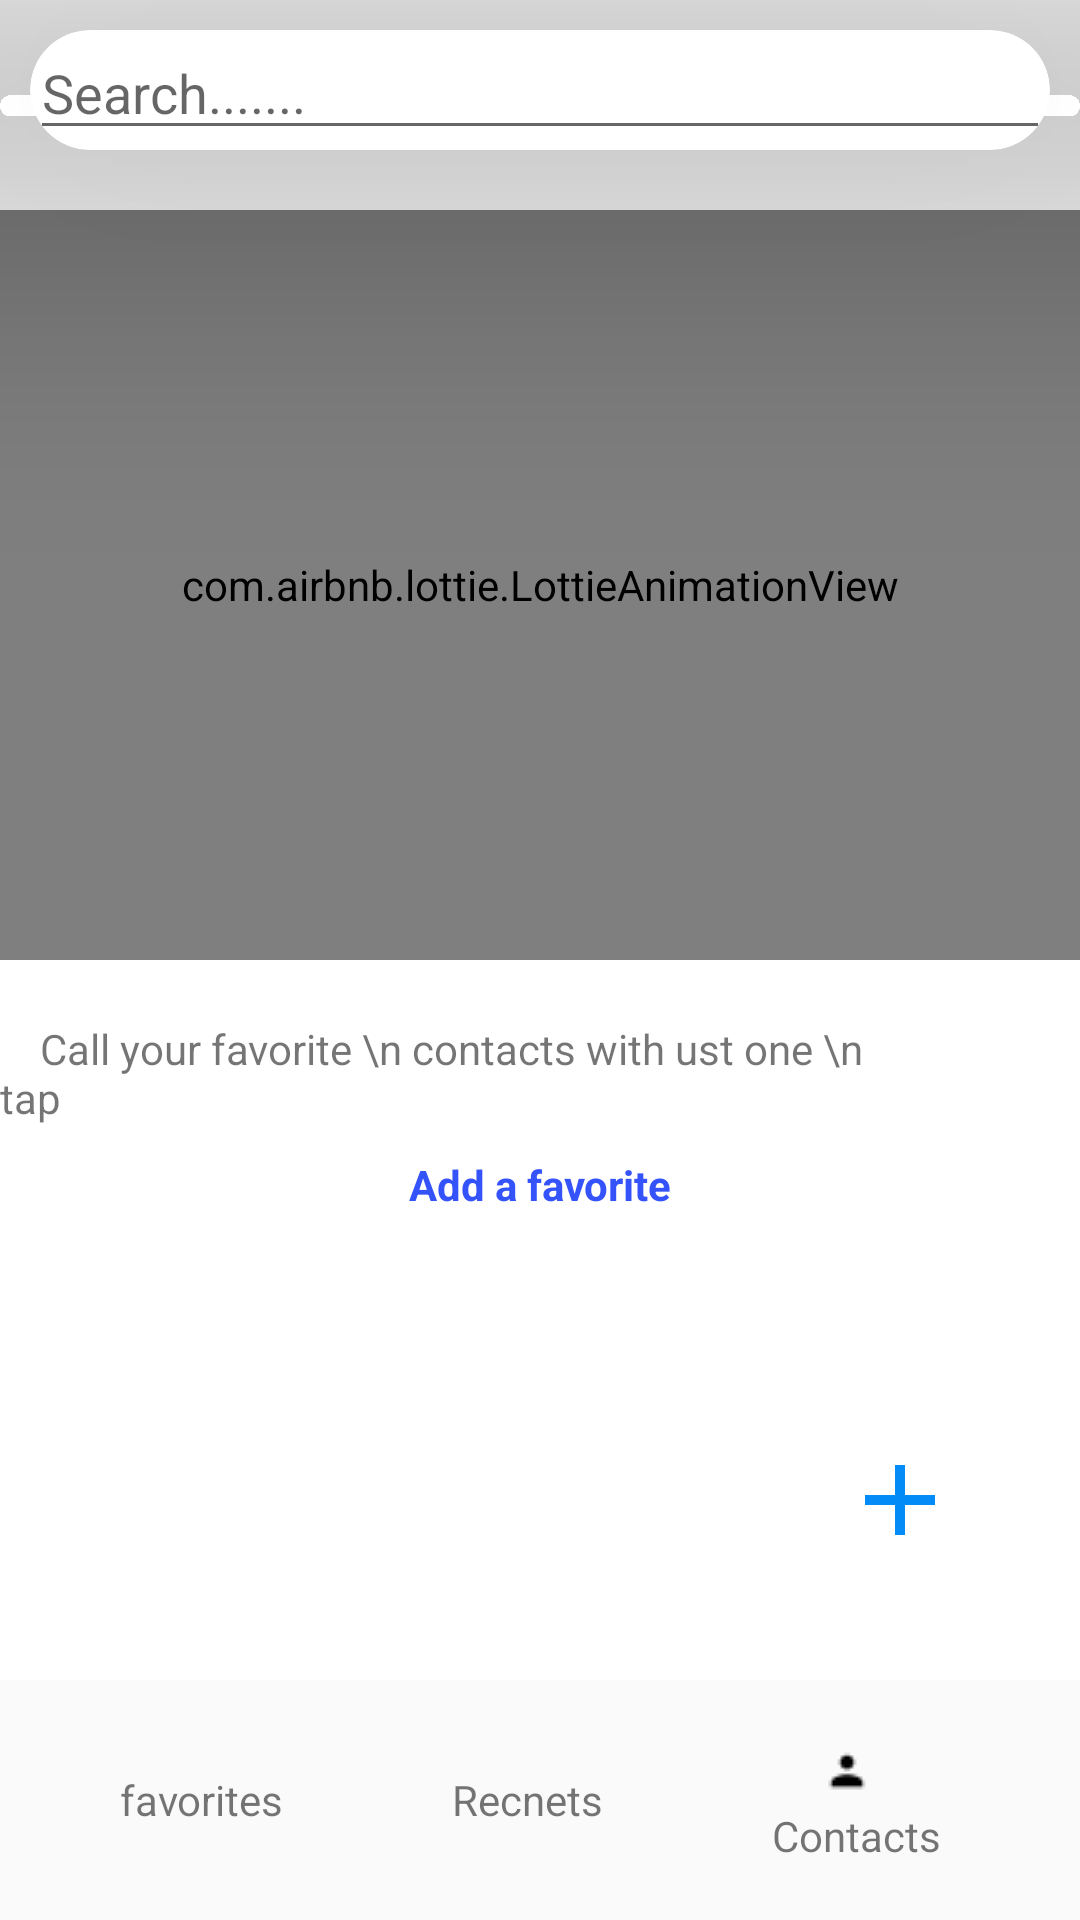

Icon click points for this 1080x1920 phone screenshot, format (x,y):
user: (847,1771)
